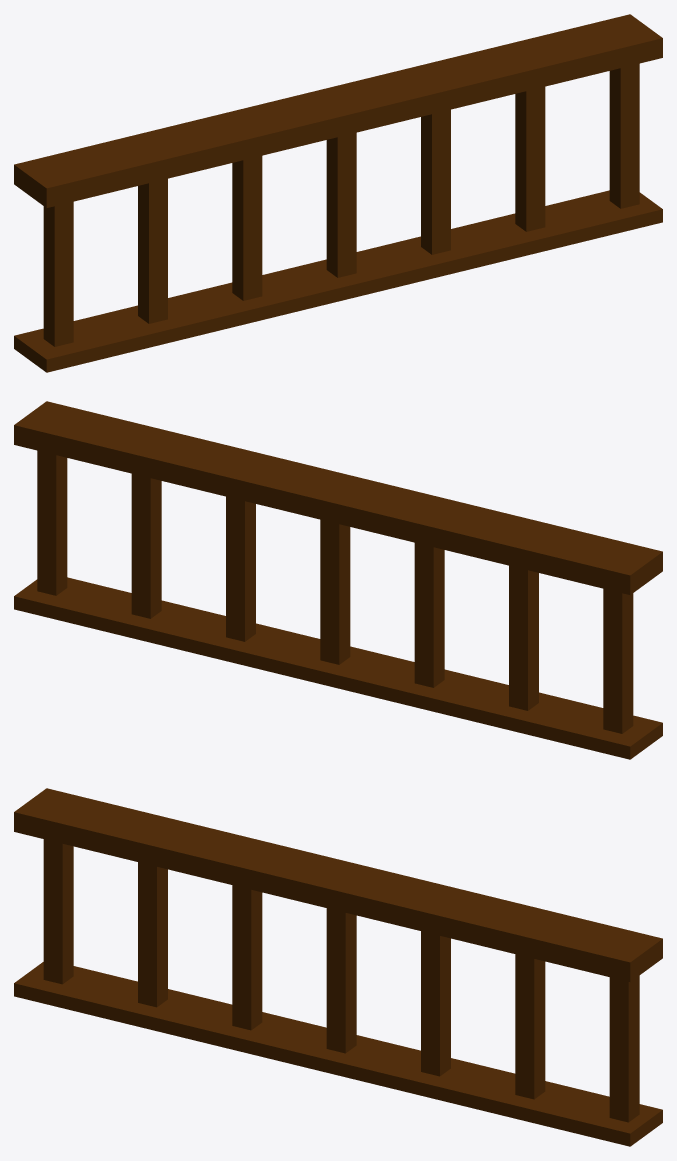
Rendered from SeondFloorRailings.obj.
The picture shows the model from 3 angles, top to bottom: view 1: azimuth 30°, elevation 25°; view 2: azimuth 150°, elevation 25°; view 3: azimuth 330°, elevation 25°; orthographic projection.
Size of the model in its own units: 9.8 by 2.8 by 0.9.
1 material, 1 textured.
